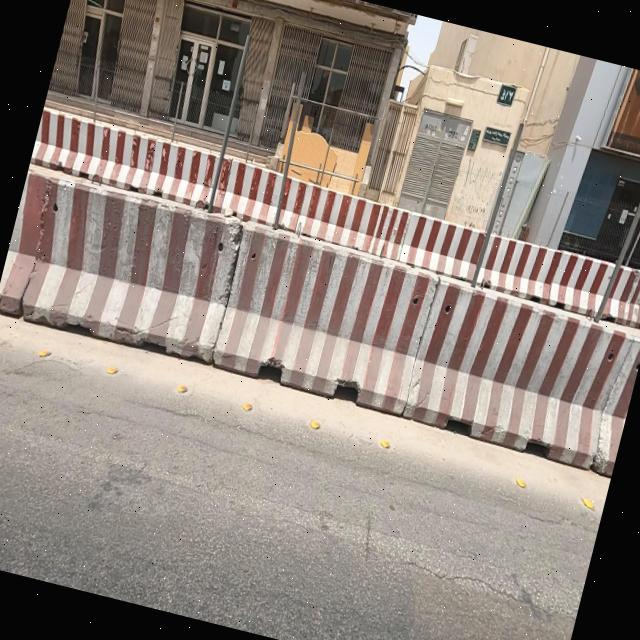Graffiti: (455, 157, 498, 220)
